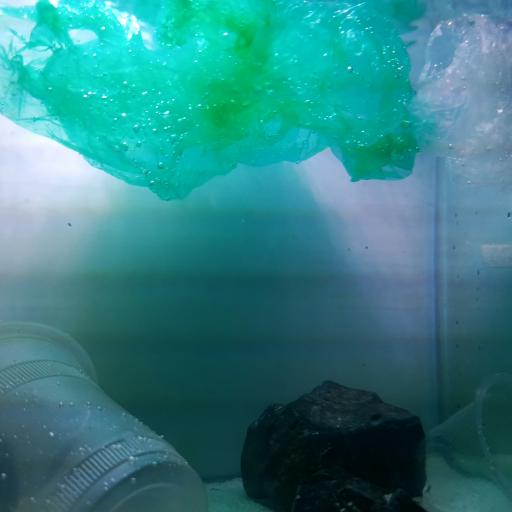plastic_bag: (0, 1, 421, 205), (406, 11, 512, 196)
plastic_cup: (0, 320, 209, 512), (410, 369, 512, 500)
